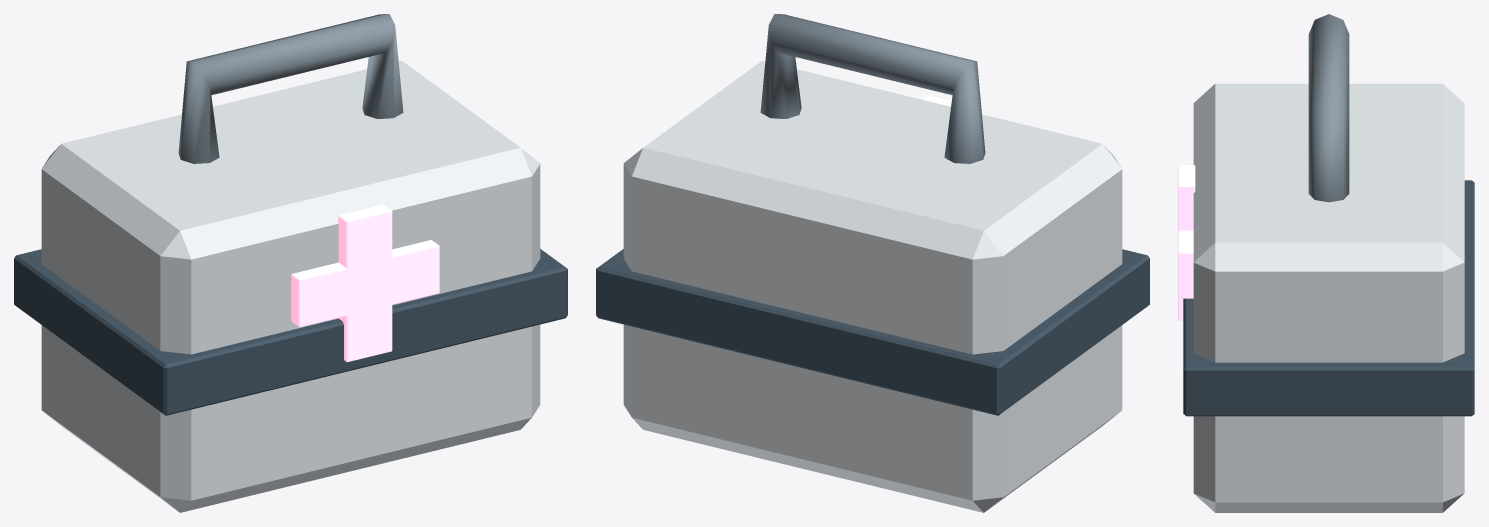
Rendered from health.glb.
3 views of the same model, side by side, from view 1: azimuth 30°, elevation 25°; view 2: azimuth 150°, elevation 25°; view 3: azimuth 270°, elevation 25° (orthographic). The views are drawn at different scales.
Parts seen in each view (by area): view 1: medical_case_1, case_seal_2, carry_handle_5, medical_cross_vertical_3, medical_cross_horizontal_4; view 2: medical_case_1, case_seal_2, carry_handle_5; view 3: medical_case_1, case_seal_2, carry_handle_5, medical_cross_vertical_3, medical_cross_horizontal_4.
Boxes of the visible parts, x1,y1,x2,y2 form: medical_case_1: [41, 60, 540, 512]; case_seal_2: [14, 249, 567, 415]; carry_handle_5: [178, 14, 403, 163]; medical_cross_vertical_3: [338, 204, 392, 362]; medical_cross_horizontal_4: [291, 240, 439, 327]; medical_case_1: [623, 60, 1122, 512]; case_seal_2: [596, 249, 1149, 415]; carry_handle_5: [760, 14, 985, 163]; medical_case_1: [1193, 83, 1464, 512]; case_seal_2: [1183, 180, 1474, 416]; carry_handle_5: [1308, 14, 1349, 202]; medical_cross_vertical_3: [1178, 165, 1195, 320]; medical_cross_horizontal_4: [1178, 230, 1193, 298].
Size of the model in its own units: 0.66 by 0.6079 by 0.4375.
